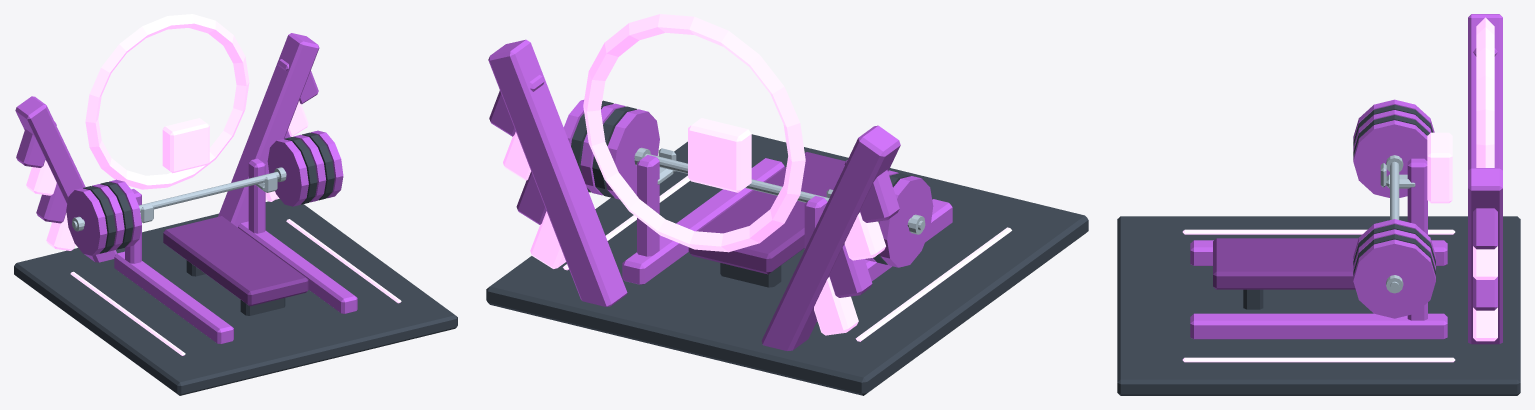
Rendered from Cosmic.fbx.
3 views of the same model, side by side, from view 1: azimuth 30°, elevation 25°; view 2: azimuth 150°, elevation 25°; view 3: azimuth 270°, elevation 25° (orthographic). The views are drawn at different scales.
Parts seen in each view (by area): view 1: Body.004, Barbell.004; view 2: Body.004, Barbell.004; view 3: Body.004, Barbell.004.
Part boxes in pixels (box(x1,y1,x2,y2)): Body.004: box(14, 14, 457, 395); Barbell.004: box(66, 130, 343, 255); Body.004: box(486, 14, 1088, 395); Barbell.004: box(563, 100, 933, 267); Body.004: box(1117, 14, 1520, 395); Barbell.004: box(1353, 99, 1435, 318).
Bounding box in the file's own units: 410 × 314 × 400.
